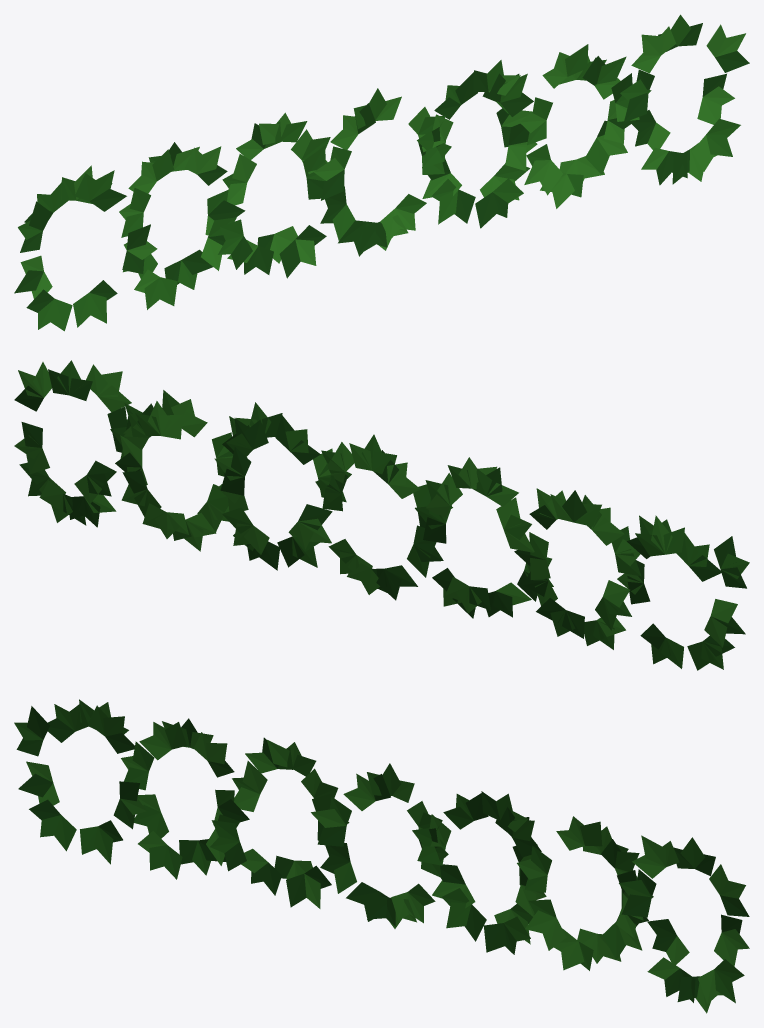
The picture shows the model from 3 angles, top to bottom: view 1: azimuth 30°, elevation 25°; view 2: azimuth 150°, elevation 25°; view 3: azimuth 330°, elevation 25°; orthographic projection.
Parts seen in each view (by area): view 1: r30c2_l00; view 2: r30c2_l00; view 3: r30c2_l00.
Part boxes in pixels (left/top/right/bottom): r30c2_l00: left=14, top=14, right=749, bottom=331; r30c2_l00: left=14, top=360, right=749, bottom=670; r30c2_l00: left=14, top=699, right=749, bottom=1013.
Size of the model in its own units: 1.81 by 0.4029 by 0.0784.
